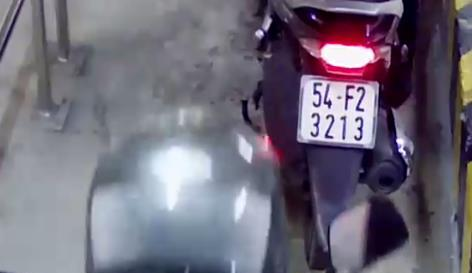lisence: (296, 73, 379, 150)
